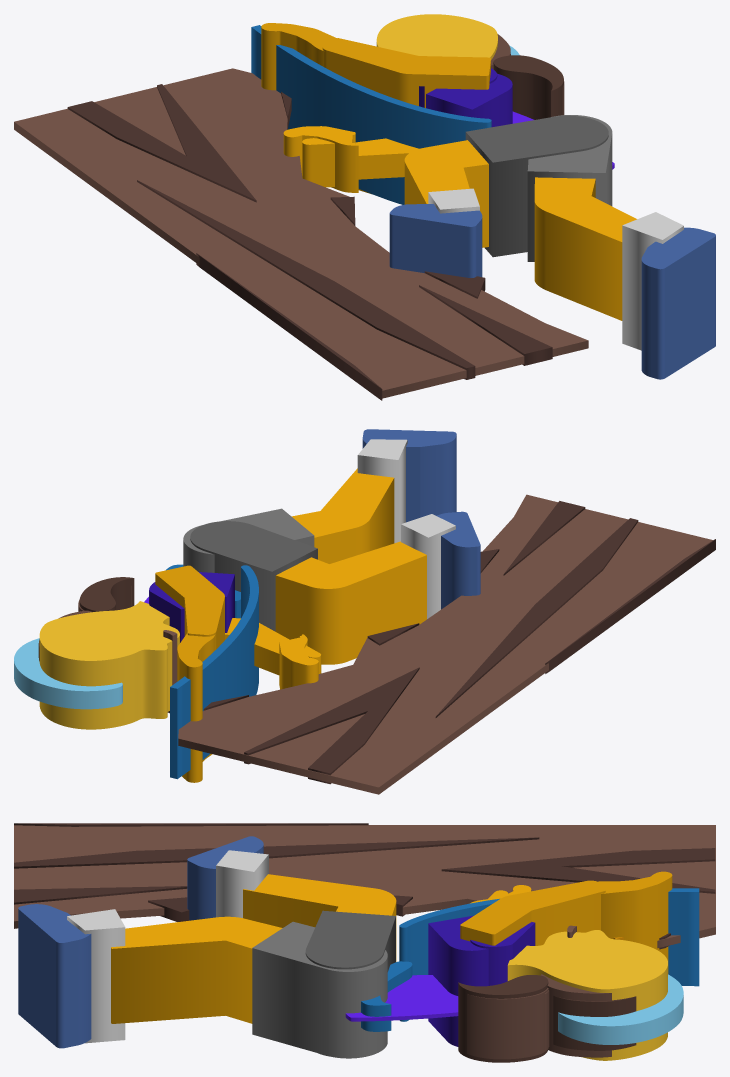
The model's file is emoji_u1f9d7_200d_2640.glb.
The picture shows the model from 3 angles, top to bottom: view 1: azimuth 30°, elevation 25°; view 2: azimuth 150°, elevation 25°; view 3: azimuth 270°, elevation 25°; orthographic projection. The views are drawn at different scales.
Visible parts, largest first — view 1: emoji_u1f9d7_200d_2640; view 2: emoji_u1f9d7_200d_2640; view 3: emoji_u1f9d7_200d_2640.
Part boxes in pixels (x1,y1,x2,y2): emoji_u1f9d7_200d_2640: [14, 14, 715, 400]; emoji_u1f9d7_200d_2640: [14, 429, 715, 794]; emoji_u1f9d7_200d_2640: [14, 823, 715, 1062].
Size of the model in its own units: 0.0236 by 0.0066 by 0.0338.
